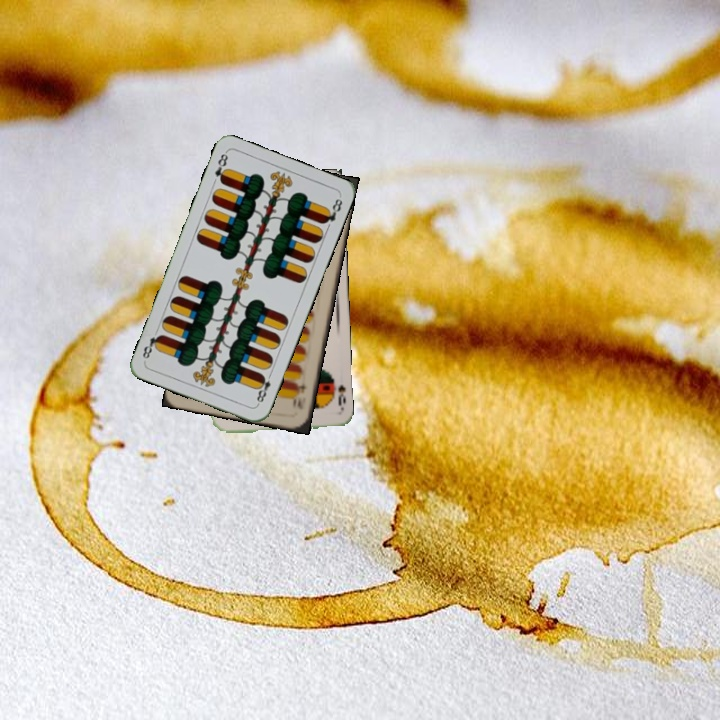E10: (289, 379, 308, 412)
E8: (252, 369, 275, 407), (211, 148, 231, 186)
SO: (328, 373, 348, 413)
